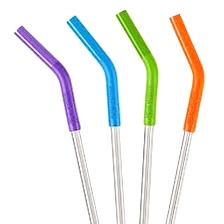drinking_straw: (10, 21, 104, 223), (63, 11, 130, 224), (111, 4, 161, 223), (160, 10, 210, 223)
